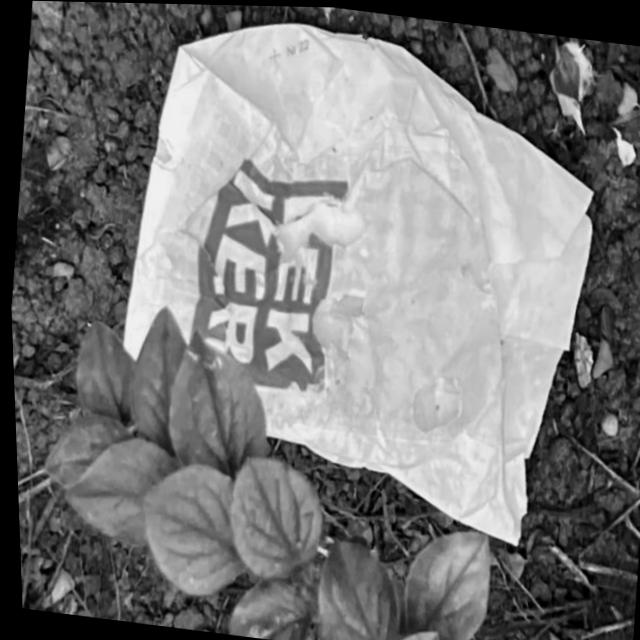Paper: (92, 2, 620, 553)
